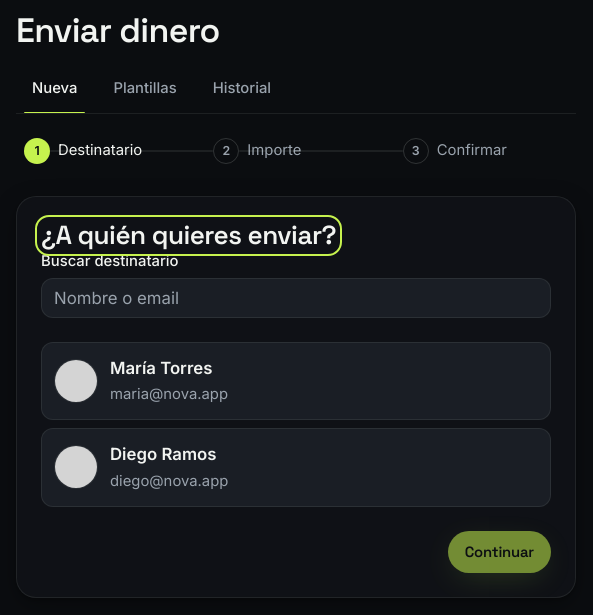
TransfersPage › carga los destinatarios, permite filtrar y exige seleccionar uno para continuar
This screenshot has width=593, height=615.
Expected: the button "Continuar" is disabled, [448,531,551,573]
Expected: the button "María Torres maria@nova.app" is shown, [41,342,551,420]
# El buscador filtra la lista en cliente.
Type "diego" into the search field labelled "Buscar destinatario" at (296, 298), box [54,278,538,316]
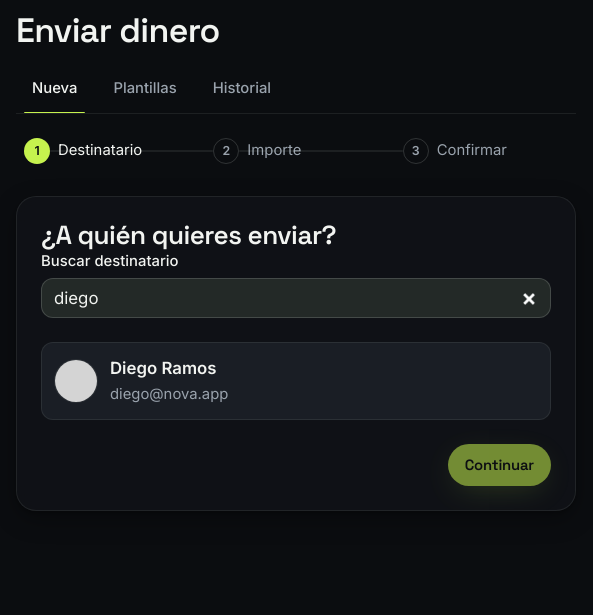
Expected: the button "Diego Ramos diego@nova.app" is shown, [41,342,551,420]
Now the button "María Torres" is gone
Clear the search field labelled "Buscar destinatario" at (296, 298), box [54,278,538,316]
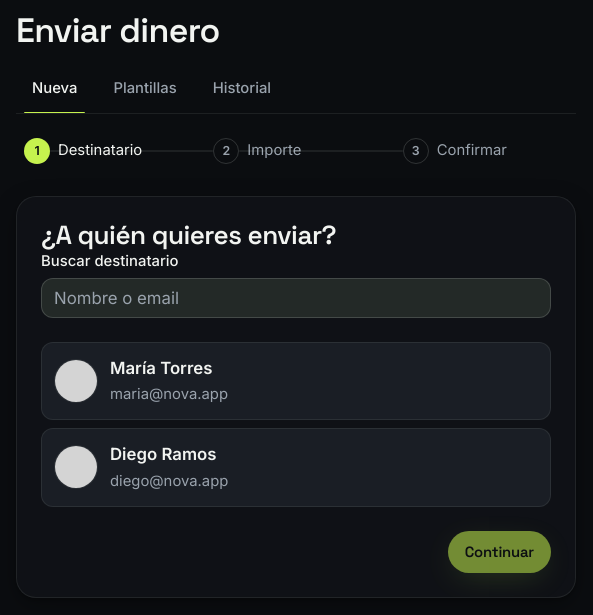
# Al seleccionar un destinatario se habilita Continuar.
Click the button "María Torres maria@nova.app" at (76, 381), box [41,342,551,420]
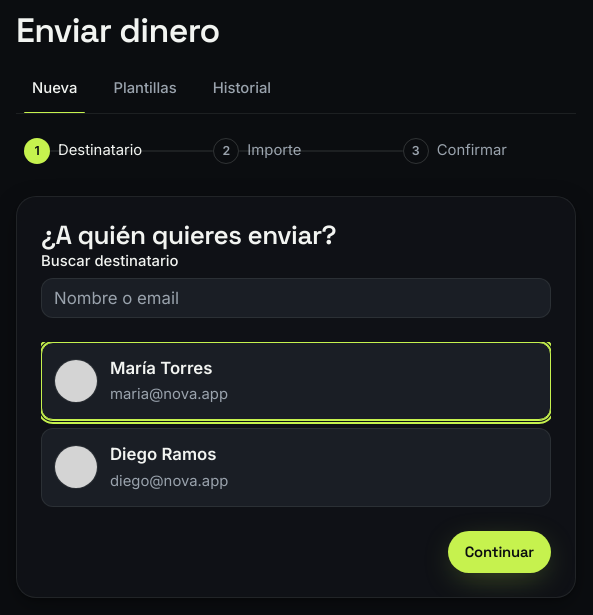
Now the button "Continuar" is enabled, box [448,531,551,573]
